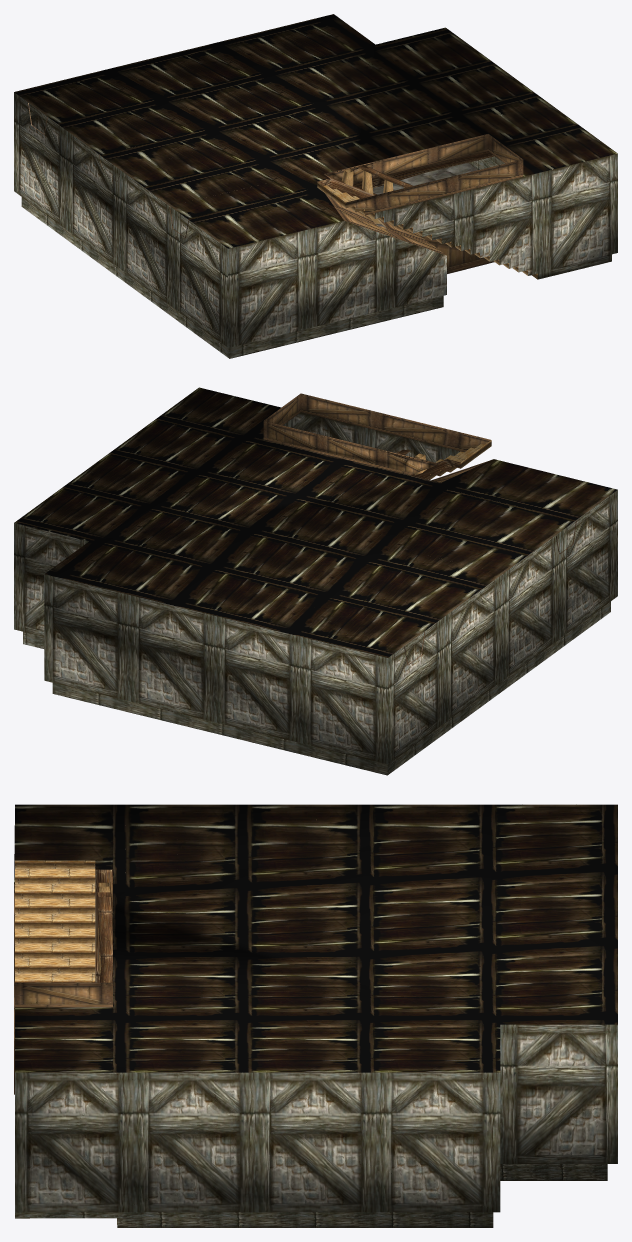
Rendered from stormwind_136.fbx.
3 renders of one model, top to bottom at view 1: azimuth 30°, elevation 25°; view 2: azimuth 150°, elevation 25°; view 3: azimuth 270°, elevation 25°, orthographic. The views are drawn at different scales.
Visible parts, largest first — view 1: stormwind_136_50, stormwind_136_58, stormwind_136_56, stormwind_136_53, stormwind_136_57, stormwind_136_54; view 2: stormwind_136_50, stormwind_136_58, stormwind_136_56, stormwind_136_53; view 3: stormwind_136_50, stormwind_136_58, stormwind_136_53, stormwind_136_56.
Boxes of the visible parts, bbox=[...] form: stormwind_136_50: bbox=[14, 14, 617, 248]; stormwind_136_58: bbox=[14, 92, 617, 358]; stormwind_136_56: bbox=[324, 134, 523, 273]; stormwind_136_53: bbox=[28, 103, 537, 279]; stormwind_136_57: bbox=[373, 163, 477, 194]; stormwind_136_54: bbox=[341, 169, 404, 194]; stormwind_136_50: bbox=[14, 387, 617, 657]; stormwind_136_58: bbox=[14, 412, 617, 775]; stormwind_136_56: bbox=[263, 393, 492, 482]; stormwind_136_53: bbox=[376, 440, 576, 665]; stormwind_136_50: bbox=[14, 804, 617, 1072]; stormwind_136_58: bbox=[14, 963, 617, 1227]; stormwind_136_53: bbox=[15, 819, 316, 1224]; stormwind_136_56: bbox=[14, 884, 112, 1094].
Size of the model in its own units: 23.44 by 7.51 by 22.28.
